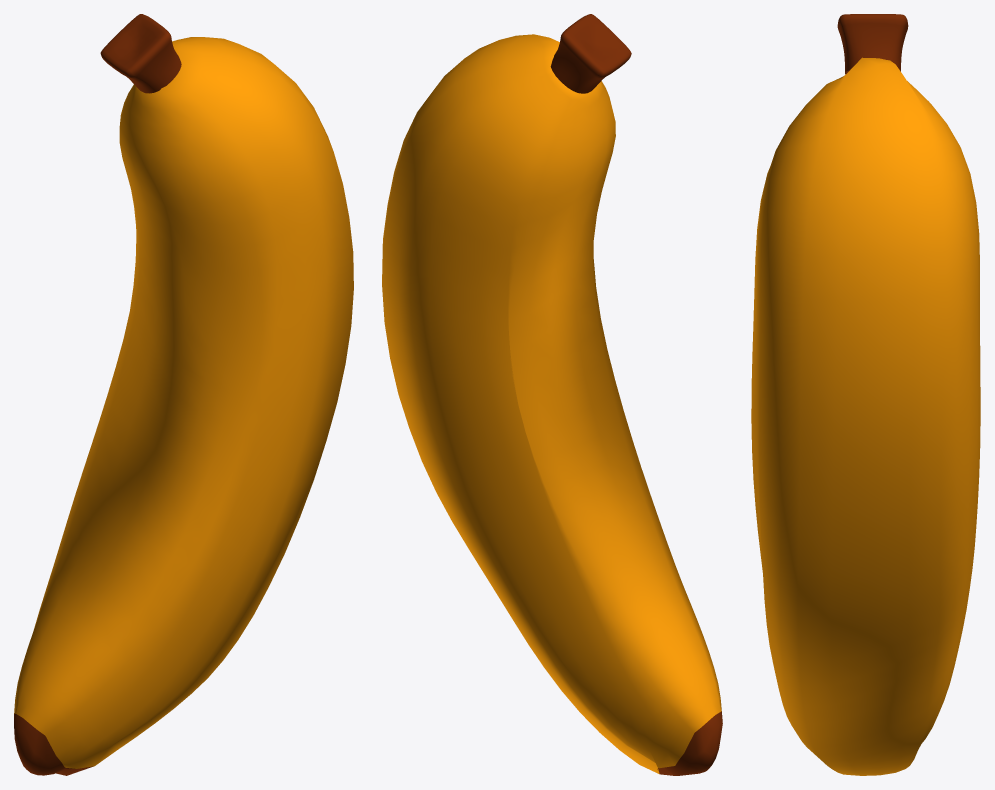
Rendered from banana2.fbx.
3 renders of one model, left to right at view 1: azimuth 30°, elevation 25°; view 2: azimuth 150°, elevation 25°; view 3: azimuth 270°, elevation 25°, orthographic. The views are drawn at different scales.
Parts seen in each view (by area): view 1: Banana.002_s_009; view 2: Banana.002_s_009; view 3: Banana.002_s_009.
Part boxes in pixels (bbox=[...]): Banana.002_s_009: bbox=[14, 14, 353, 775]; Banana.002_s_009: bbox=[382, 14, 722, 775]; Banana.002_s_009: bbox=[751, 14, 980, 775].
Size of the model in its own units: 56.1 by 121 by 31.08.
